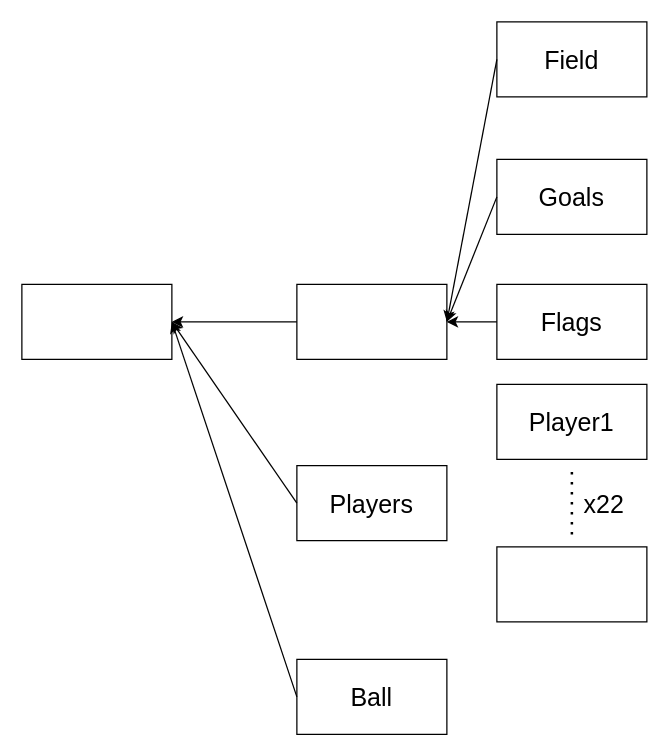
Image size: 669x756. Some labels were removed from this diagram. Here are the shapes that lost their labels. From the top down, the centre of each, then its label:
At [96,321]: "Main".
At [371,321]: "Pitch".
At [571,584]: "Player22".
